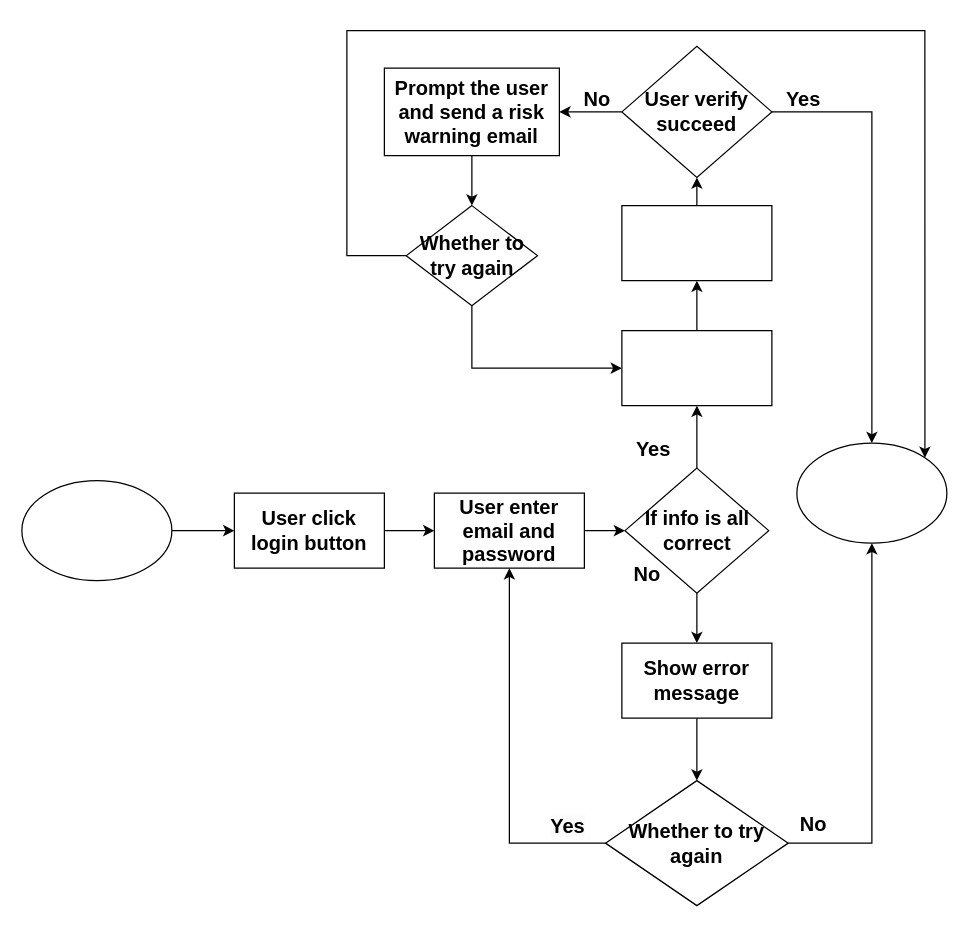
Some shapes in this 969 by 928 pixel diagram are drawn without their labels. Each missing label, with the centre of its shape:
Over: point (871, 492)
Send verify email: point (696, 367)
User start login: point (96, 530)
Verify user identification: point (696, 242)
